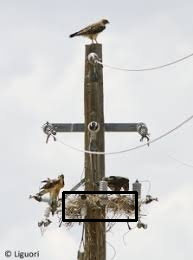bird-nest: (63, 192, 136, 220)
